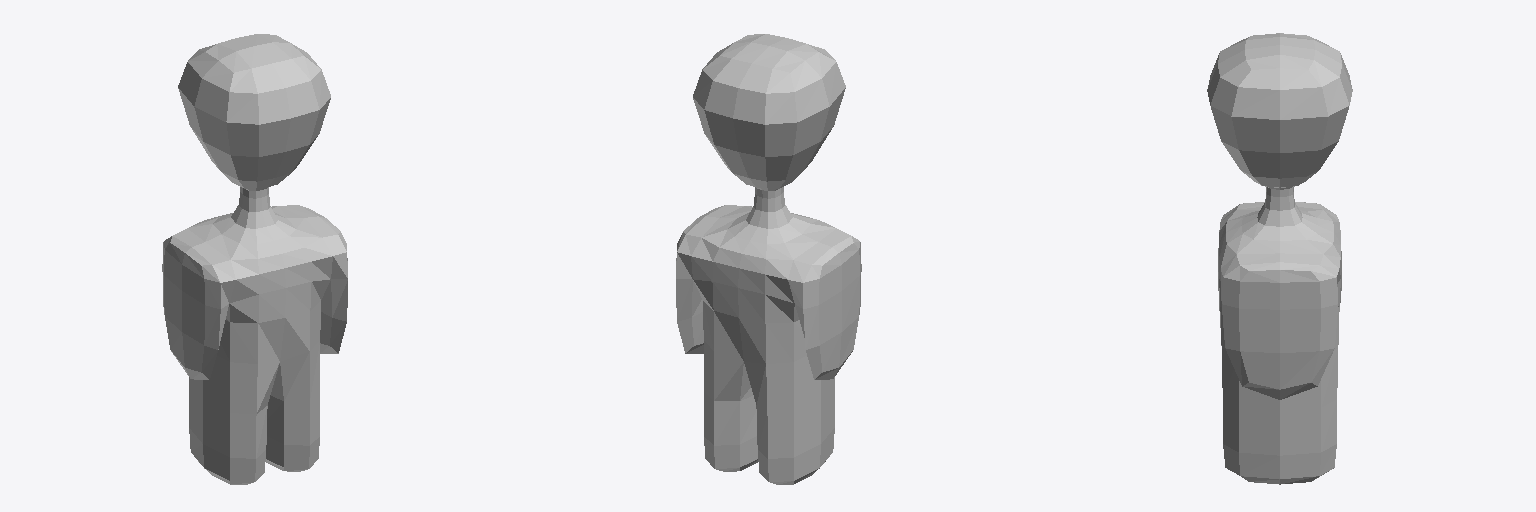
The model's file is alienbod.obj.
3 renders of one model, left to right at view 1: azimuth 30°, elevation 25°; view 2: azimuth 150°, elevation 25°; view 3: azimuth 270°, elevation 25°, orthographic.
Parts seen in each view (by area): view 1: Cube; view 2: Cube; view 3: Cube.
Part boxes in pixels (bbox=[...]): Cube: bbox=[162, 34, 347, 484]; Cube: bbox=[676, 34, 861, 484]; Cube: bbox=[1207, 33, 1352, 484].
Bounding box in the file's own units: 2.75 × 7.47 × 2.34.